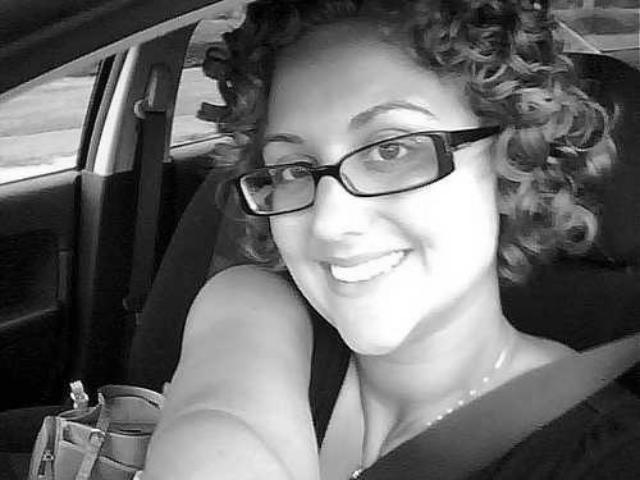SafeDriving: (351, 126, 429, 176), (258, 150, 322, 192)
Seatbelt: (348, 324, 640, 480)
